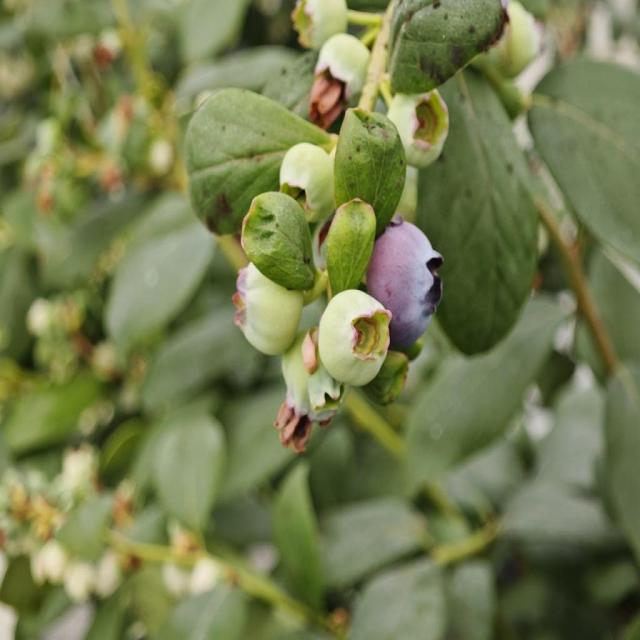Semi-RipeBlueBerry: (368, 218, 446, 346)
UnripeBlueBerry: (316, 284, 393, 389)
